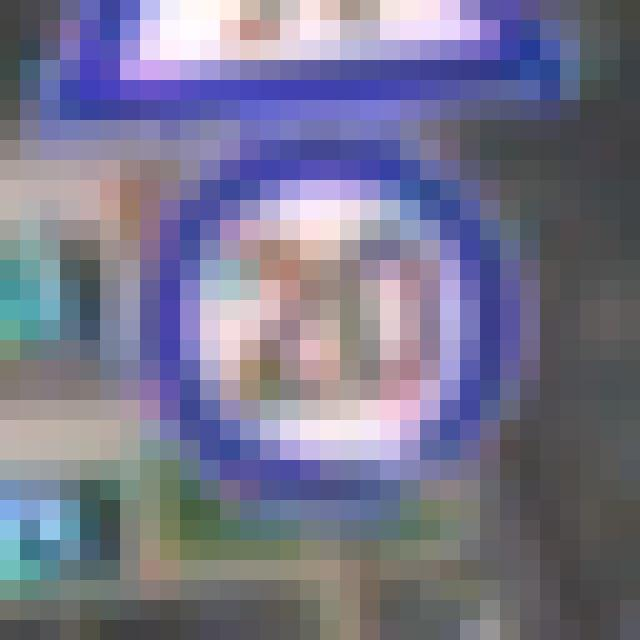SPEED LIMIT 20: (136, 153, 580, 511)
